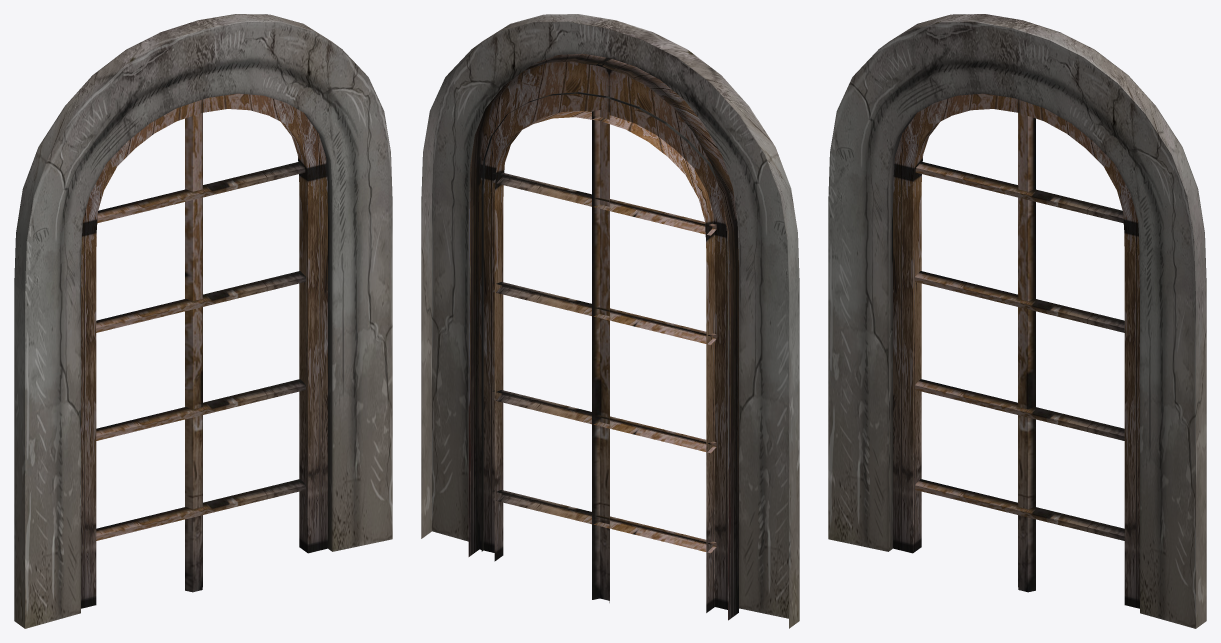
File: top_window.fbx
The picture shows the model from 3 angles, left to right: view 1: azimuth 30°, elevation 25°; view 2: azimuth 150°, elevation 25°; view 3: azimuth 330°, elevation 25°; orthographic projection.
Visible parts, largest first — view 1: polySurface1039; view 2: polySurface1039; view 3: polySurface1039.
Boxes of the visible parts, bbox=[...] form: polySurface1039: bbox=[14, 14, 392, 628]; polySurface1039: bbox=[421, 14, 799, 628]; polySurface1039: bbox=[828, 14, 1206, 628].
Bounding box in the file's own units: 251 × 373 × 20.85.
